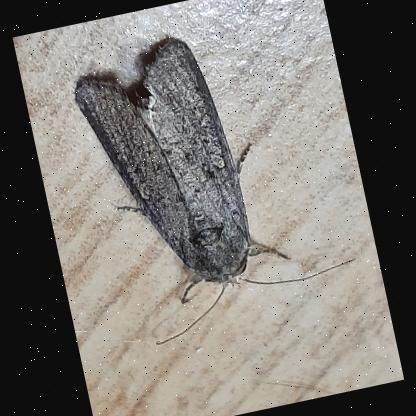Fall Armyworm Moth: (63, 5, 367, 354)
